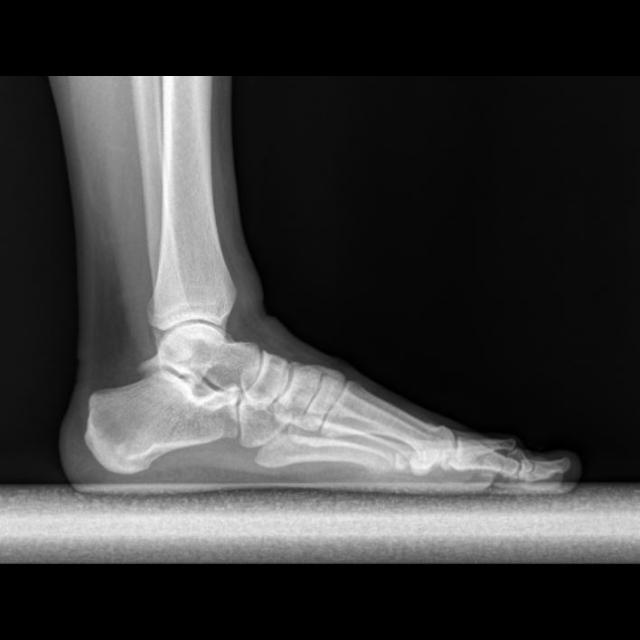a: (85, 371, 242, 475)
b: (246, 351, 291, 411)
c: (319, 379, 455, 475)
